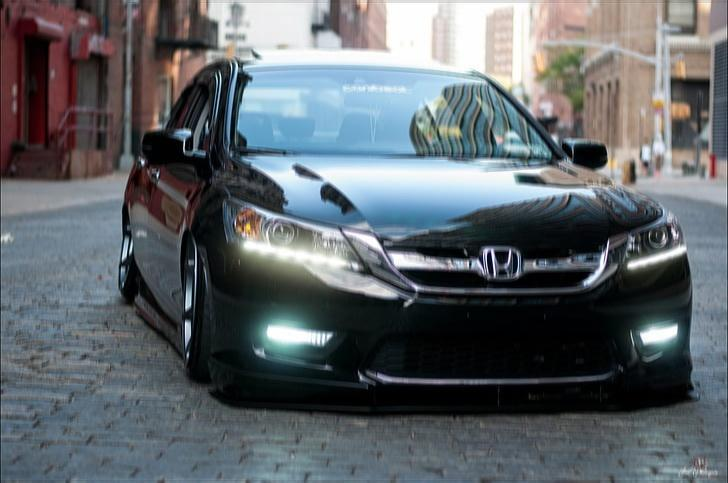Car hood: (214, 149, 669, 234)
Driver-s door - -F-R-: (135, 54, 242, 353)
Front bumper: (200, 246, 697, 408)
Headlight - -L-: (609, 215, 690, 276)
Headlight - -R-: (221, 196, 373, 281)
Side bumper - -R-: (122, 268, 191, 370)
Side mirror - -L-: (566, 142, 611, 172)
Side mirror - -R-: (139, 126, 213, 182)
